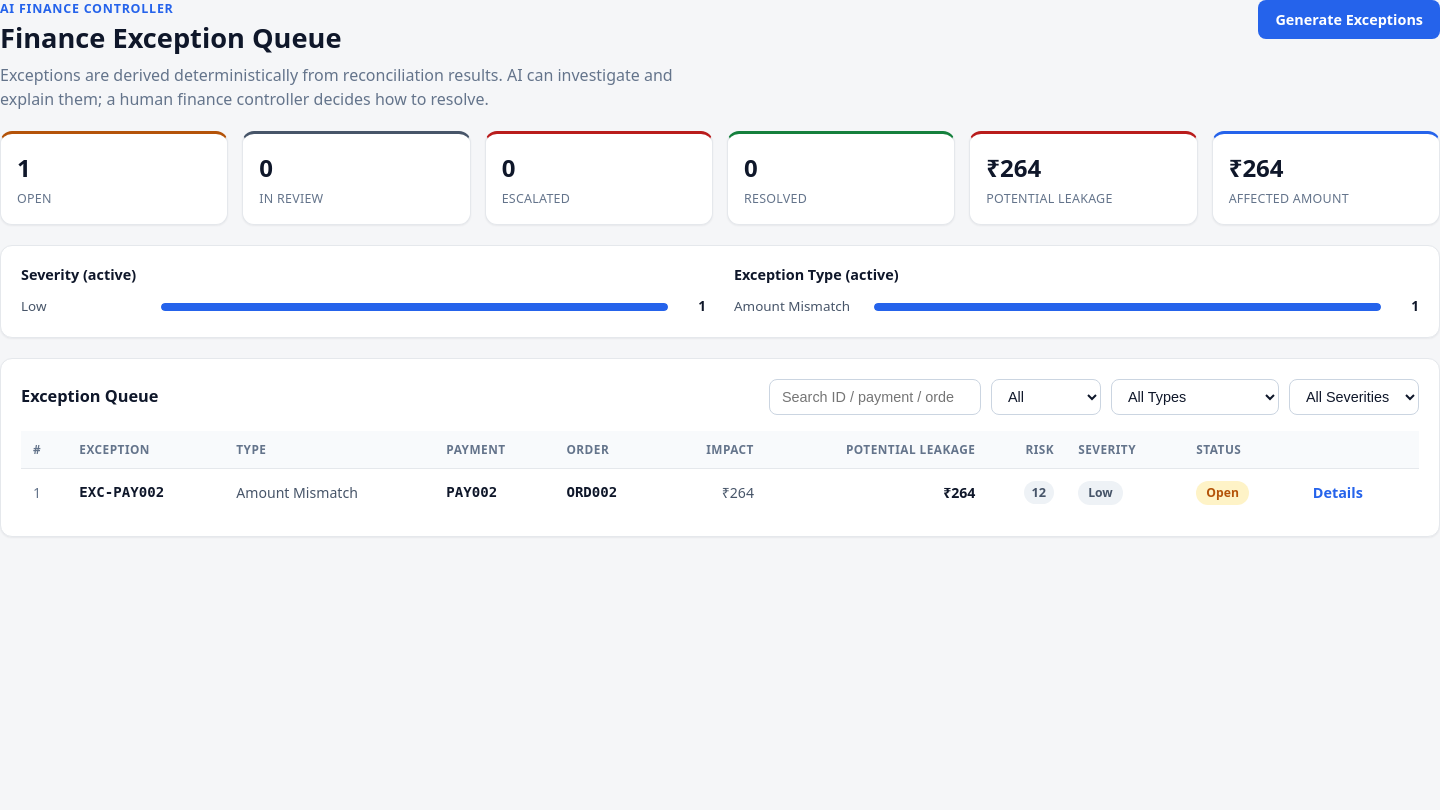
Finance Exception Queue › opens the detail modal with the deterministic calculation
Expected: the column heading "EXC-PAY002" is shown, [67,469,224,516]
Click the button "Details".
click(1338, 493)  # box [1307,479,1369,506]
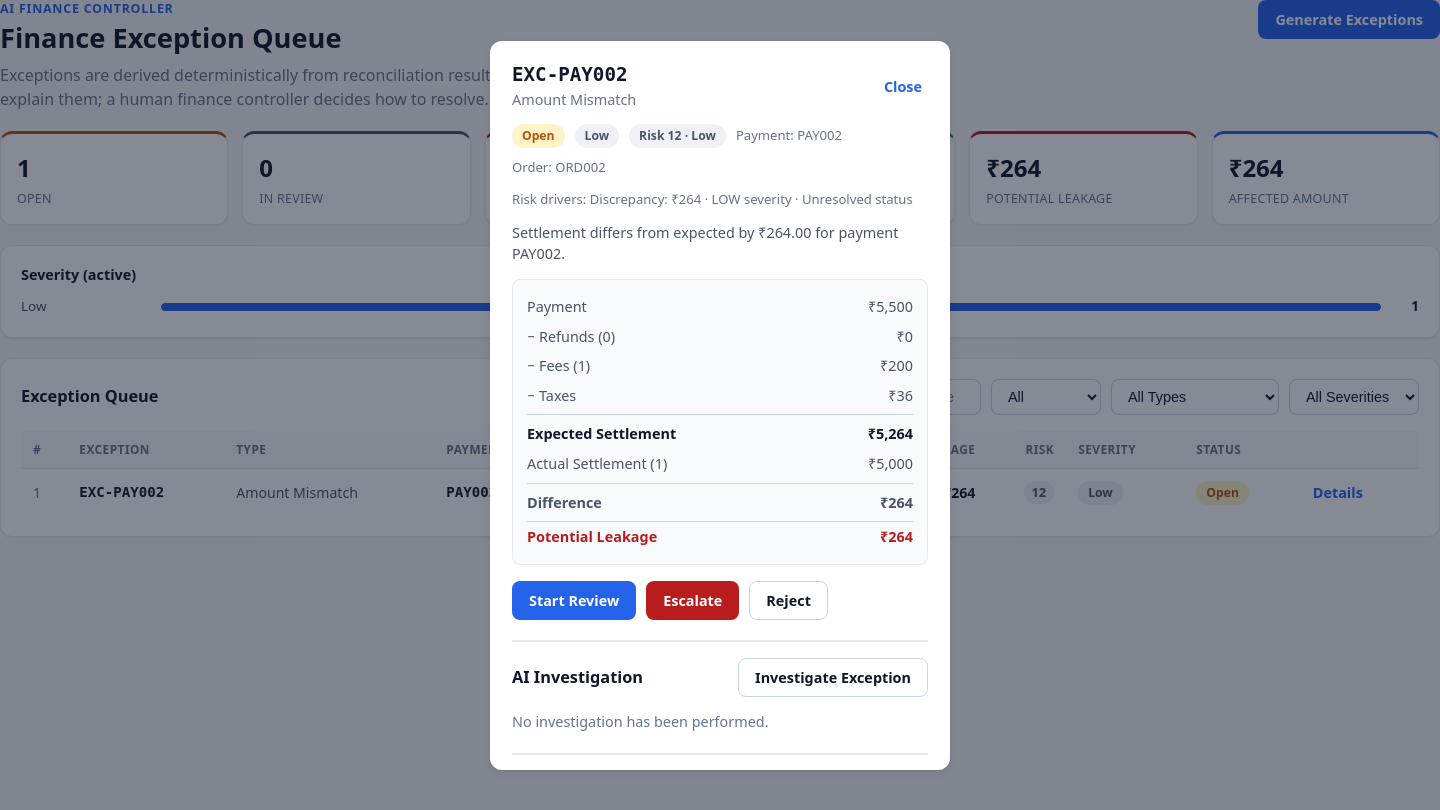
Expected: the text "Expected Settlement" is shown, [527,423,676,445]
Expected: the text "₹5,264" is shown, [868,423,913,445]
Expected: the heading "AI Investigation" is shown, [512,667,643,688]
